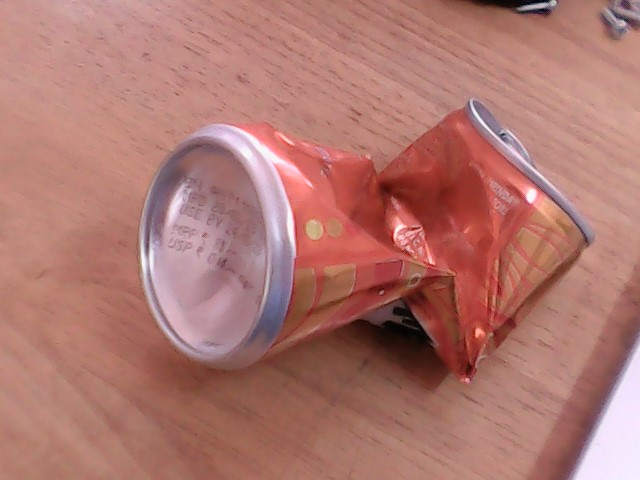Metal: (124, 123, 588, 374)
